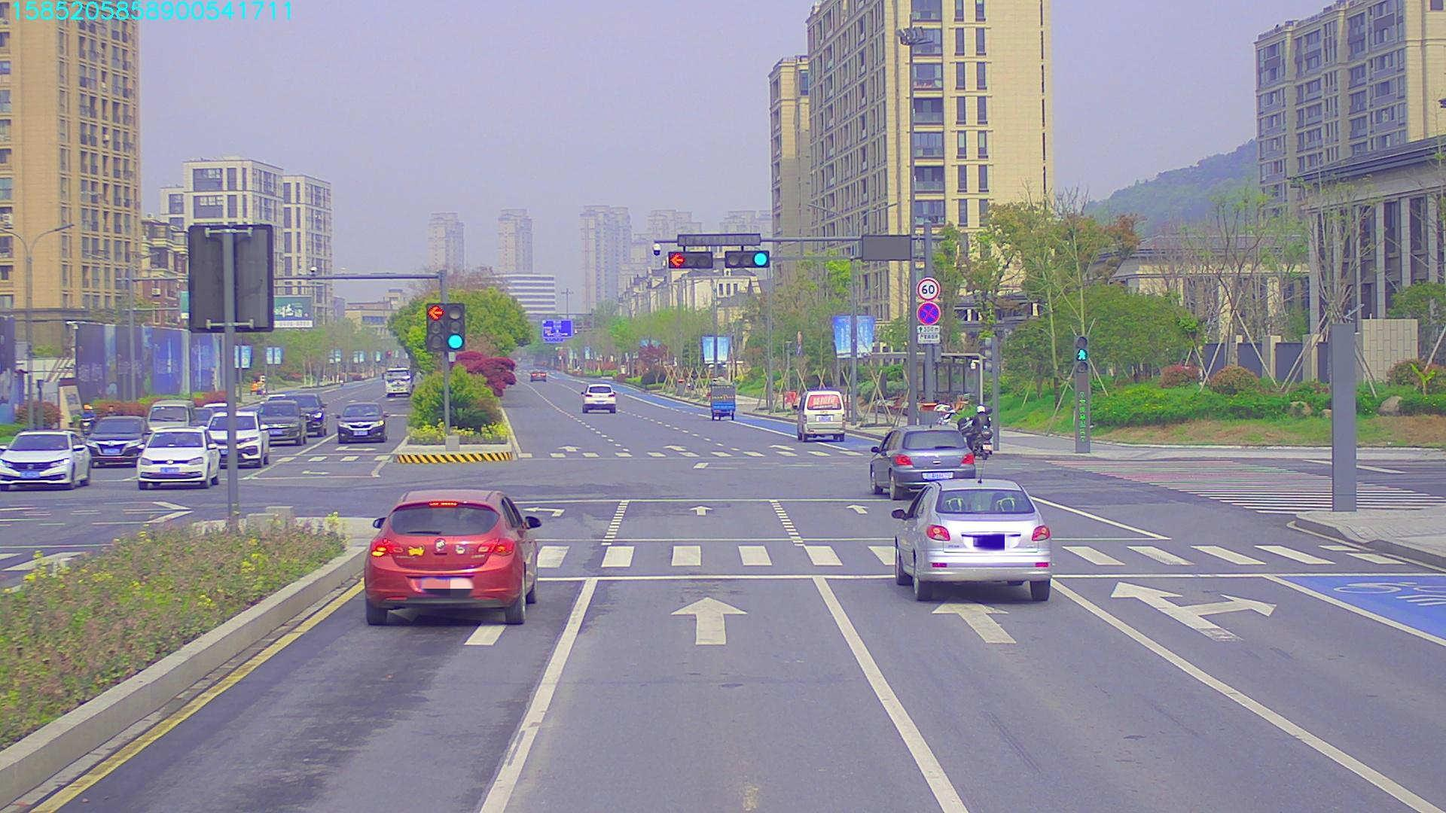green: (727, 247, 778, 266)
red: (663, 251, 712, 271)
